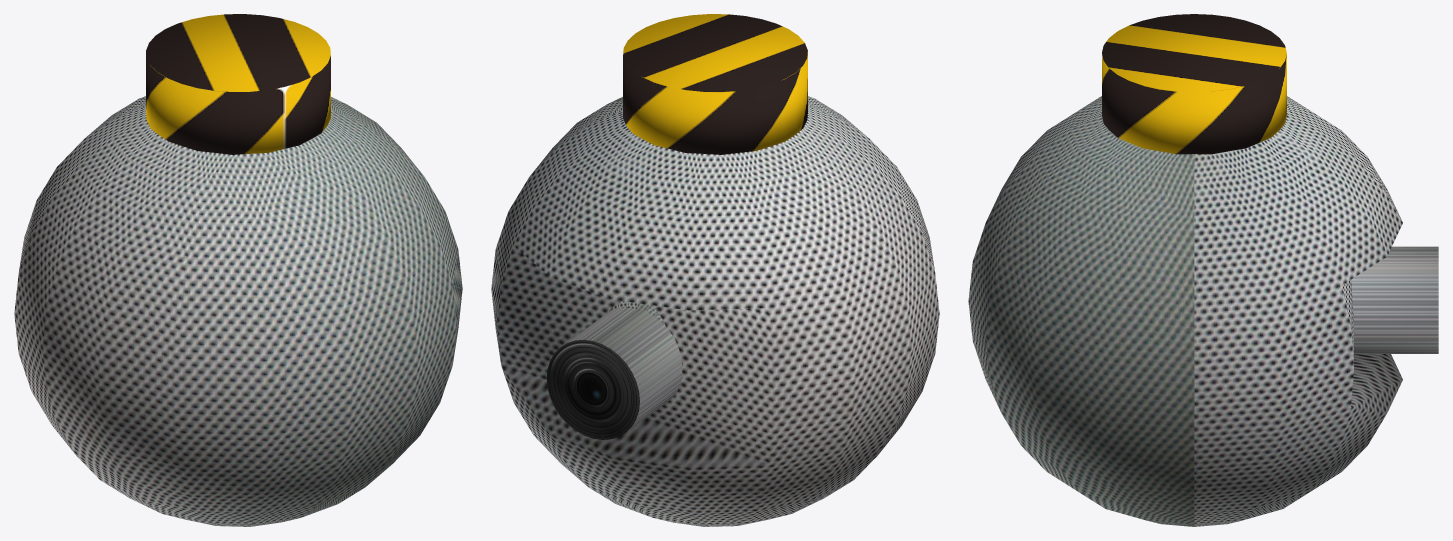
File: droneb.gltf
3 renders of one model, left to right at view 1: azimuth 30°, elevation 25°; view 2: azimuth 150°, elevation 25°; view 3: azimuth 270°, elevation 25°, orthographic.
Visible parts, largest first — view 1: body, engine; view 2: body, engine, camera; view 3: body, engine, camera.
Part boxes in pixels (left/top/right/bottom): body: left=14, top=96, right=462, bottom=526; engine: left=146, top=14, right=330, bottom=154; body: left=491, top=96, right=939, bottom=526; engine: left=623, top=14, right=807, bottom=154; camera: left=546, top=301, right=682, bottom=439; body: left=968, top=96, right=1402, bottom=526; engine: left=1102, top=14, right=1286, bottom=154; camera: left=1351, top=246, right=1438, bottom=353.
Size of the model in its own units: 4.57 by 5.05 by 4.75.
Materials: 3 (3 with a texture image).
